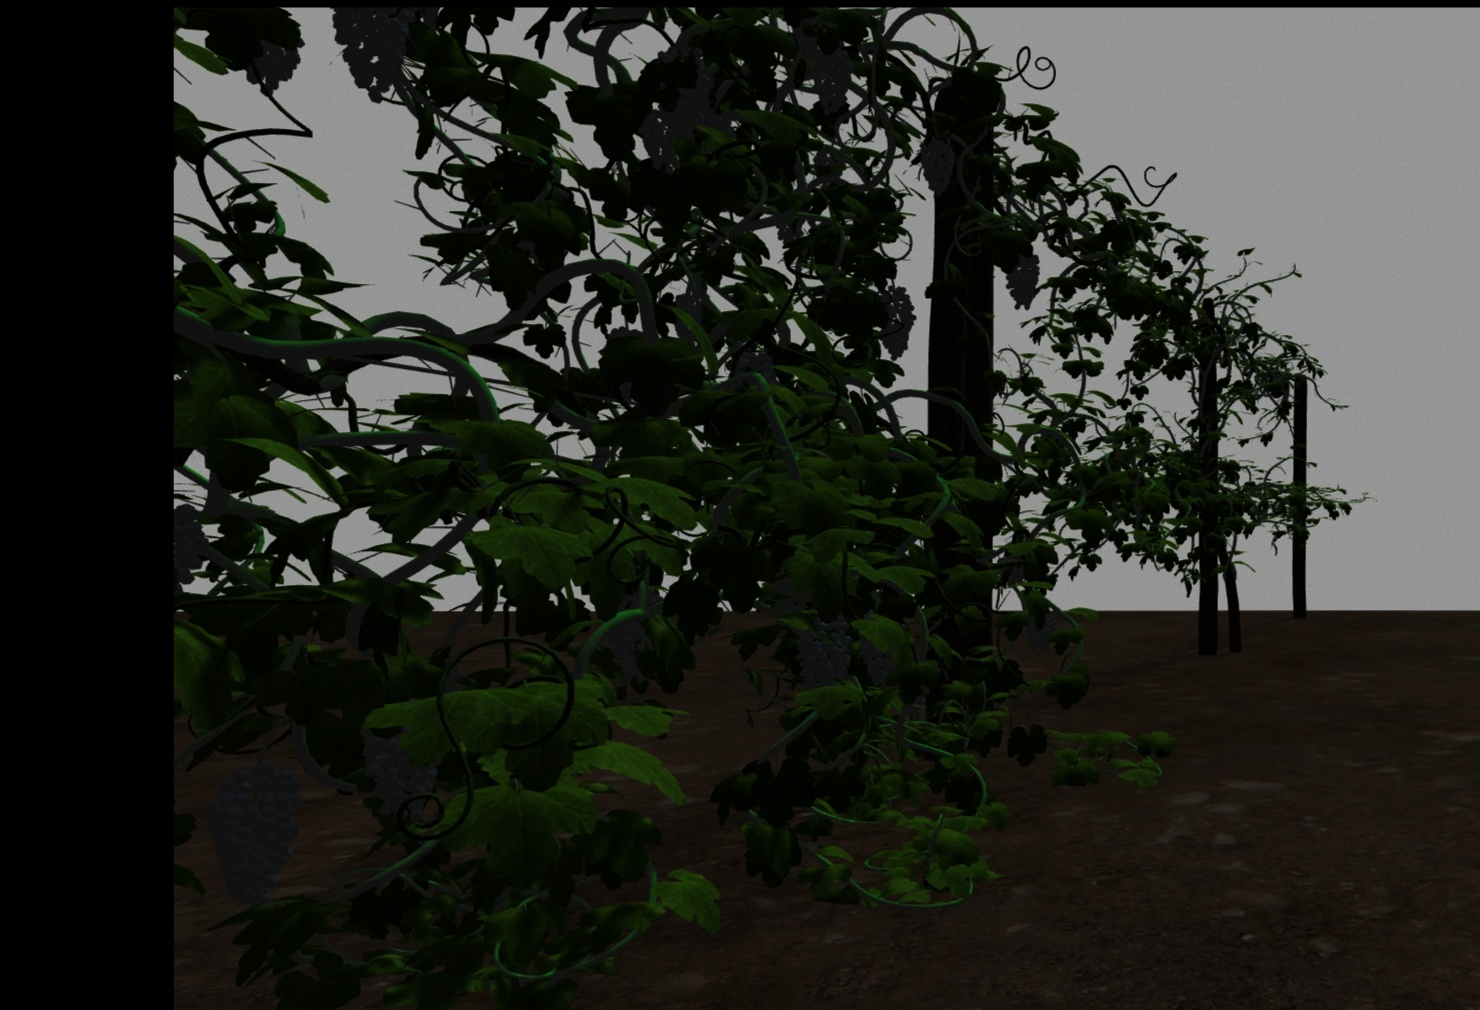grape: (197, 768, 306, 905), (358, 721, 450, 826), (330, 12, 418, 103), (656, 44, 711, 133), (798, 613, 852, 689), (242, 33, 303, 97), (608, 601, 652, 680), (809, 47, 852, 116), (877, 287, 915, 360), (638, 110, 682, 173), (1002, 252, 1041, 313), (918, 137, 956, 198), (175, 506, 210, 566), (858, 635, 896, 687), (1025, 607, 1056, 657)
